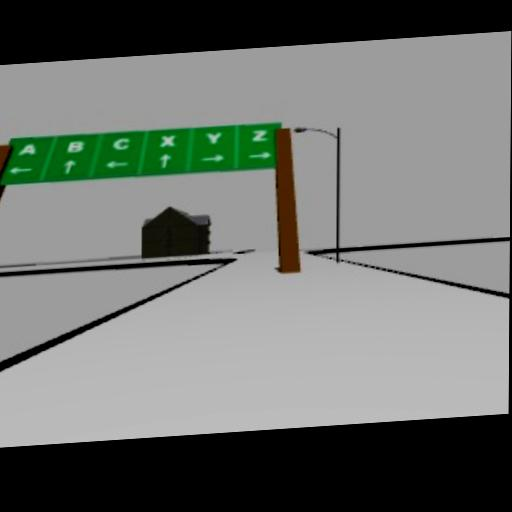A: (17, 141, 35, 155)
B: (65, 138, 85, 152)
C: (111, 135, 129, 149)
Left: (104, 158, 127, 168), (7, 165, 32, 174)
Right: (200, 152, 225, 162), (246, 149, 271, 158)
Straight: (61, 158, 74, 174), (159, 152, 171, 168)
X: (158, 132, 175, 146)
Y: (205, 130, 222, 143)
Z: (251, 128, 268, 142)
